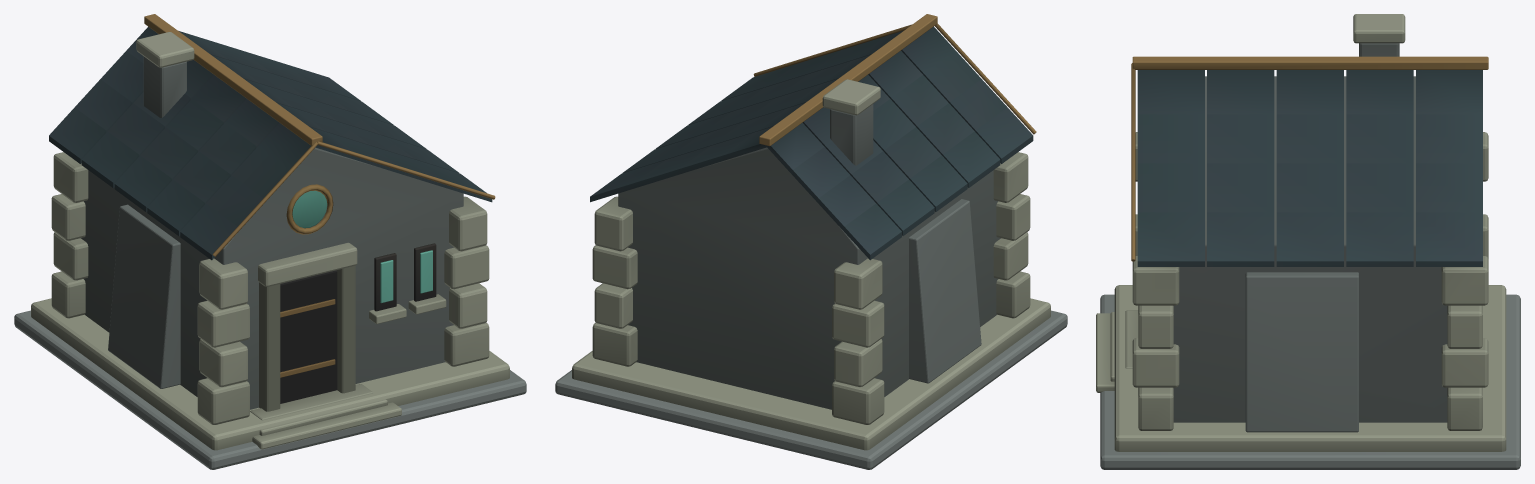
The model's file is skyreach-archive-v1.glb.
3 renders of one model, left to right at view 1: azimuth 30°, elevation 25°; view 2: azimuth 150°, elevation 25°; view 3: azimuth 270°, elevation 25°, orthographic. The views are drawn at different scales.
Visible parts, largest first — view 1: GB_ARCHIVE_Stone, GB_ARCHIVE_Trim, GB_ARCHIVE_Roof, GB_ARCHIVE_Wood, GB_ARCHIVE_Bronze, GB_ARCHIVE_Glass; view 2: GB_ARCHIVE_Stone, GB_ARCHIVE_Roof, GB_ARCHIVE_Trim, GB_ARCHIVE_Bronze; view 3: GB_ARCHIVE_Roof, GB_ARCHIVE_Stone, GB_ARCHIVE_Trim, GB_ARCHIVE_Bronze.
Boxes of the visible parts, x1,y1,x2,y2 form: GB_ARCHIVE_Stone: (14, 56, 526, 469); GB_ARCHIVE_Trim: (31, 32, 509, 450); GB_ARCHIVE_Roof: (49, 26, 492, 260); GB_ARCHIVE_Wood: (280, 243, 436, 403); GB_ARCHIVE_Bronze: (144, 14, 495, 377); GB_ARCHIVE_Glass: (292, 190, 432, 303); GB_ARCHIVE_Stone: (555, 104, 1067, 469); GB_ARCHIVE_Roof: (590, 26, 1033, 260); GB_ARCHIVE_Trim: (572, 79, 1050, 450); GB_ARCHIVE_Bronze: (753, 14, 1036, 146); GB_ARCHIVE_Roof: (1137, 70, 1482, 266); GB_ARCHIVE_Stone: (1100, 43, 1520, 469); GB_ARCHIVE_Trim: (1096, 14, 1506, 451); GB_ARCHIVE_Bronze: (1131, 56, 1488, 261).
Size of the model in its own units: 4.8 by 4.5 by 5.25.
